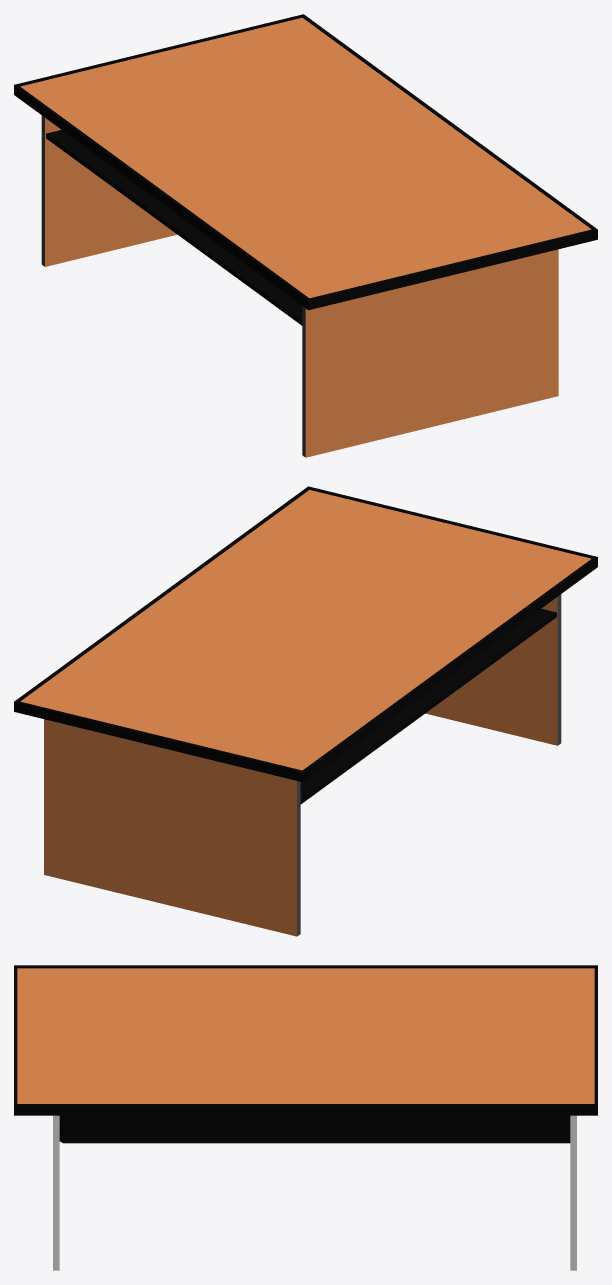
Rendered from masa01.fbx.
3 renders of one model, top to bottom at view 1: azimuth 30°, elevation 25°; view 2: azimuth 150°, elevation 25°; view 3: azimuth 270°, elevation 25°, orthographic.
Parts seen in each view (by area): view 1: Masa.002; view 2: Masa.002; view 3: Masa.002.
Boxes of the visible parts, left/top/right/bottom form: Masa.002: left=14, top=14, right=597, bottom=457; Masa.002: left=14, top=486, right=597, bottom=936; Masa.002: left=14, top=965, right=597, bottom=1270.
Bounding box in the file's own units: 400 × 232 × 703.
